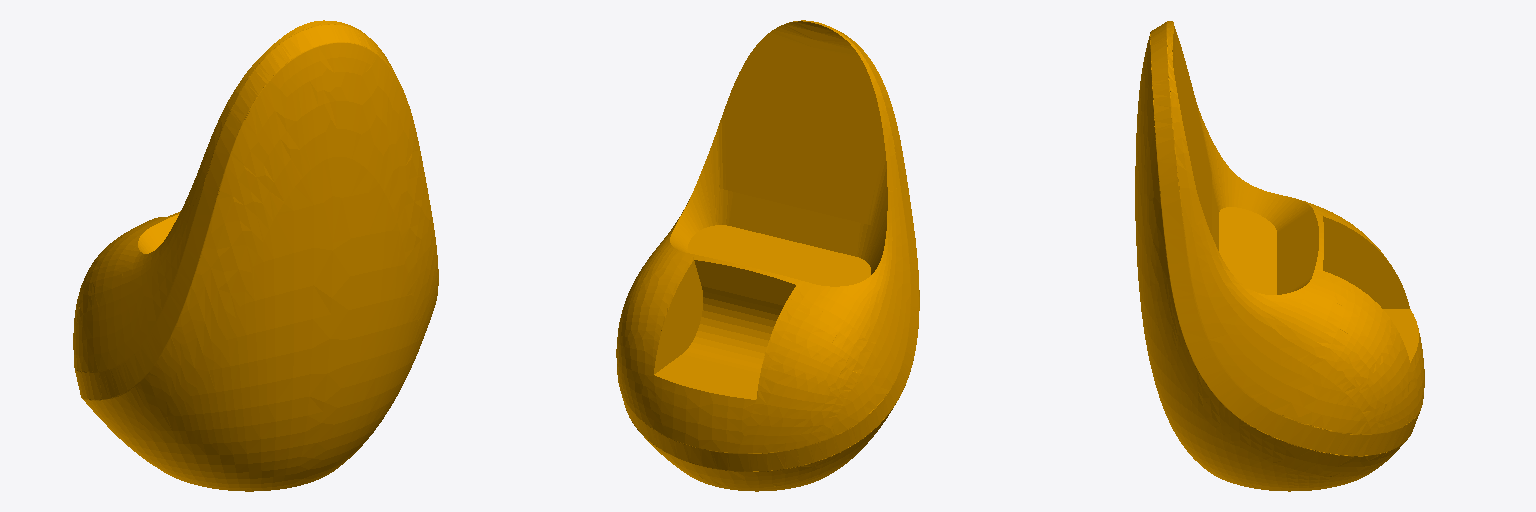
URDF robot description (sdh):
<?xml version="1.0"?>
<robot name="sdh"
	xmlns:sensor="http://playerstage.sourceforge.net/gazebo/xmlschema/#sensor"
	xmlns:controller="http://playerstage.sourceforge.net/gazebo/xmlschema/#controller"
	xmlns:interface="http://playerstage.sourceforge.net/gazebo/xmlschema/#interface">

	<!-- ################################################################################# -->
	<!-- add links-->
	
	<!-- palm -->
	<link name="link_palm">
		<inertial>
			<origin xyz="0 0 0" rpy="0 0 0"/>
			<mass value="1"/>
			<inertia ixx="1"  ixy="0"  ixz="0" iyy="1" iyz="0" izz="1" />
		</inertial>
		<visual>
			<origin xyz="0 0 0" rpy="0 0 0" />
			<geometry>
				<mesh filename="package://cob_defs/common/files/meshes/palm.stl" />
			</geometry>
		</visual>
		<collision>
			<origin xyz="0 0 0" rpy="0 0 0" />
			<geometry>
				<mesh filename="package://cob_defs/common/files/meshes/palm.stl"/>
			</geometry>
		</collision>
	</link>
	
	<!-- finger1 -->
	<link name="link_finger11">
		<inertial>
			<origin xyz="0 0 0" rpy="0 0 0"/>
			<mass value="0.1"/>
			<inertia ixx="1"  ixy="0"  ixz="0" iyy="1" iyz="0" izz="1" />
		</inertial>
		<visual>
			<origin xyz="0 0 0" rpy="0 0 0" />
			<geometry>
				<mesh filename="package://cob_defs/common/files/meshes/knuckle.stl" />
			</geometry>
		</visual>
		<collision>
			<origin xyz="0 0 0" rpy="0 0 0" />
			<geometry>
				<mesh filename="package://cob_defs/common/files/meshes/knuckle.stl"/>
			</geometry>
		</collision>
	</link>
	
	<link name="link_finger12">
		<inertial>
			<origin xyz="0 0 0" rpy="0 0 0"/>
			<mass value="0.1"/>
			<inertia ixx="1"  ixy="0"  ixz="0" iyy="1" iyz="0" izz="1" />
		</inertial>
		<visual>
			<origin xyz="0 0 0" rpy="0 0 0" />
			<geometry>
				<mesh filename="package://cob_defs/common/files/meshes/finger.stl" />
			</geometry>
		</visual>
		<collision>
			<origin xyz="0 0 0" rpy="0 0 0" />
			<geometry>
				<mesh filename="package://cob_defs/common/files/meshes/finger.stl"/>
			</geometry>
		</collision>
	</link>

	<link name="link_finger13">
		<inertial>
			<origin xyz="0 0 0" rpy="0 0 0"/>
			<mass value="0.1"/>
			<inertia ixx="1"  ixy="0"  ixz="0" iyy="1" iyz="0" izz="1" />
		</inertial>
		<visual>
			<origin xyz="0 0 0" rpy="0 0 0" />
			<geometry>
				<mesh filename="package://cob_defs/common/files/meshes/finger_tip.stl" />
			</geometry>
		</visual>
		<collision>
			<origin xyz="0 0 0" rpy="0 0 0" />
			<geometry>
				<mesh filename="package://cob_defs/common/files/meshes/finger_tip.stl"/>
			</geometry>
		</collision>
	</link>

	<!-- finger2 -->
	<link name="link_finger21">
		<inertial>
			<origin xyz="0 0 0" rpy="0 0 0"/>
			<mass value="0.1"/>
			<inertia ixx="1"  ixy="0"  ixz="0" iyy="1" iyz="0" izz="1" />
		</inertial>
		<visual>
			<origin xyz="0 0 0" rpy="0 0 0" />
			<geometry>
				<mesh filename="package://cob_defs/common/files/meshes/knuckle.stl" />
			</geometry>
		</visual>
		<collision>
			<origin xyz="0 0 0" rpy="1.57079633 0 0" />
			<geometry>
				<mesh filename="package://cob_defs/common/files/meshes/knuckle.stl"/>
			</geometry>
		</collision>
	</link>

	<link name="link_finger22">
		<inertial>
			<origin xyz="0 0 0" rpy="0 0 0"/>
			<mass value="0.1"/>
			<inertia ixx="1"  ixy="0"  ixz="0" iyy="1" iyz="0" izz="1" />
		</inertial>
		<visual>
			<origin xyz="0 0 0" rpy="0 0 0" />
			<geometry>
				<mesh filename="package://cob_defs/common/files/meshes/finger.stl" />
			</geometry>
		</visual>
		<collision>
			<origin xyz="0 0 0" rpy="0 0 0" />
			<geometry>
				<mesh filename="package://cob_defs/common/files/meshes/finger.stl"/>
			</geometry>
		</collision>
	</link>

	<link name="link_finger23">
		<inertial>
			<origin xyz="0 0 0" rpy="0 0 0"/>
			<mass value="0.1"/>
			<inertia ixx="1"  ixy="0"  ixz="0" iyy="1" iyz="0" izz="1" />
		</inertial>
		<visual>
			<origin xyz="0 0 0" rpy="0 0 0" />
			<geometry>
				<mesh filename="package://cob_defs/common/files/meshes/finger_tip.stl" />
			</geometry>
		</visual>
		<collision>
			<origin xyz="0 0 0" rpy="0 0 0" />
			<geometry>
				<mesh filename="package://cob_defs/common/files/meshes/finger_tip.stl"/>
			</geometry>
		</collision>
	</link>

	<!-- thumb -->
	<link name="link_thumb1">
		<inertial>
			<origin xyz="0 0 0" rpy="0 0 0"/>
			<mass value="0.1"/>
			<inertia ixx="1"  ixy="0"  ixz="0" iyy="1" iyz="0" izz="1" />
		</inertial>
		<visual>
			<origin xyz="0 0 0" rpy="0 0 0" />
			<geometry>
				<mesh filename="package://cob_defs/common/files/meshes/knuckle.stl" />
			</geometry>
		</visual>
		<collision>
			<origin xyz="0 0 0" rpy="0 0 0" />
			<geometry>
				<mesh filename="package://cob_defs/common/files/meshes/knuckle.stl"/>
			</geometry>
		</collision>
	</link>

	<link name="link_thumb2">
		<inertial>
			<origin xyz="0 0 0" rpy="0 0 0"/>
			<mass value="0.1"/>	
			<inertia ixx="1"  ixy="0"  ixz="0" iyy="1" iyz="0" izz="1" />
		</inertial>
		<visual>
			<origin xyz="0 0 0" rpy="0 0 0" />
			<geometry>
				<mesh filename="package://cob_defs/common/files/meshes/finger.stl" />
			</geometry>
		</visual>
		<collision>
			<origin xyz="0 0 0" rpy="0 0 0" />
			<geometry>
				<mesh filename="package://cob_defs/common/files/meshes/finger.stl"/>
			</geometry>
		</collision>
	</link>
	
	<link name="link_thumb3">
		<inertial>
			<origin xyz="0 0 0" rpy="0 0 0"/>
			<mass value="0.1"/>
			<inertia ixx="1"  ixy="0"  ixz="0" iyy="1" iyz="0" izz="1" />
		</inertial>
		<visual>
			<origin xyz="0 0 0" rpy="0 0 0" />
			<geometry>
				<mesh filename="package://cob_defs/common/files/meshes/finger_tip.stl" />
			</geometry>
		</visual>
		<collision>
			<origin xyz="0 0 0" rpy="0 0 0" />
			<geometry>
				<mesh filename="package://cob_defs/common/files/meshes/finger_tip.stl"/>
			</geometry>
		</collision>
	</link>
	
	<!-- define colors for links -->
	<gazebo reference="link_palm">
		<material>Gazebo/Grey</material>
		<turnGravityOff>false</turnGravityOff>
	</gazebo>
	
	<gazebo reference="link_finger11">
		<material>Gazebo/Black</material>
		<turnGravityOff>false</turnGravityOff>
	</gazebo>
	
	<gazebo reference="link_finger12">
		<material>Gazebo/Red</material>
		<turnGravityOff>false</turnGravityOff>
	</gazebo>
	
	<gazebo reference="link_finger13">
		<material>Gazebo/Blue</material>
		<turnGravityOff>false</turnGravityOff>
	</gazebo>

	<gazebo reference="link_finger21">
		<material>Gazebo/Black</material>
		<turnGravityOff>false</turnGravityOff>
	</gazebo>

	<gazebo reference="link_finger22">
		<material>Gazebo/Red</material>
		<turnGravityOff>false</turnGravityOff>
	</gazebo>

	<gazebo reference="link_finger23">
		<material>Gazebo/Blue</material>
		<turnGravityOff>false</turnGravityOff>
	</gazebo>

	<gazebo reference="link_thumb1">
		<material>Gazebo/Black</material>
		<turnGravityOff>false</turnGravityOff>
	</gazebo>
	
	<gazebo reference="link_thumb2">
		<material>Gazebo/Red</material>
		<turnGravityOff>false</turnGravityOff>
	</gazebo>

	<gazebo reference="link_thumb3">
		<material>Gazebo/Blue</material>
		<turnGravityOff>false</turnGravityOff>
	</gazebo>

	<!-- ################################################################################# -->
	<!-- add joints -->

	<!-- palm -->

	<!-- finger1 -->
	<joint name="joint_palm_finger11" type="revolute">
		<origin xyz="0.01905 0.033 0.0745" rpy="0 0 3.159265" />
		<parent link="link_palm"/>
		<child link="link_finger11"/>
		<axis xyz="0 0 1" />
	    <calibration reference_position="0.0"/>
		<limit effort="100" lower="-2" upper="2" velocity="5"/> <!-- rads. effort is N-m applied force. vel is rad/s. -->
	</joint>
 
	<joint name="joint_finger11_finger12" type="revolute">
		<origin xyz="0 0 0.0165" rpy="0 0 0" />
		<parent link="link_finger11"/>
		<child link="link_finger12"/>
		<axis xyz="0 1 0" />
	    <calibration reference_position="0.0"/>
		<limit effort="100" lower="-2" upper="2" velocity="5"/> <!-- rads. effort is N-m applied force. vel is rad/s. -->
	</joint>
 
	<joint name="joint_finger12_finger13" type="revolute">
		<origin xyz="0 0 0.0865" rpy="0 0 0" />
		<parent link="link_finger12"/>
		<child link="link_finger13"/>
		<axis xyz="0 1 0" />
	    <calibration reference_position="0.0"/>
		<limit effort="100" lower="-2" upper="2" velocity="5"/> <!-- rads. effort is N-m applied force. vel is rad/s. -->
	</joint>
 
	<!-- finger2 -->
	<joint name="joint_palm_finger21" type="revolute">
		<origin xyz="0.01905 -0.033 0.0745" rpy="0 0 3.14159265" />
		<parent link="link_palm"/>
		<child link="link_finger21"/>
		<axis xyz="0 0 1" />
	    <calibration reference_position="0.0"/>
		<limit effort="100" lower="-2" upper="2" velocity="5"/> <!-- rads. effort is N-m applied force. vel is rad/s. -->
	</joint>
 
	<joint name="joint_finger21_finger22" type="revolute">
		<origin xyz="0 0 0.0165" rpy="0 0 0" />
		<parent link="link_finger21"/>
		<child link="link_finger22"/>
		<axis xyz="0 1 0" />
	    <calibration reference_position="0.0"/>
		<limit effort="100" lower="-2" upper="2" velocity="5"/> <!-- rads. effort is N-m applied force. vel is rad/s. -->
	</joint>
 
	<joint name="joint_finger22_finger23" type="revolute">
		<origin xyz="0 0 0.0865" rpy="0 0 0" />
		<parent link="link_finger22"/>
		<child link="link_finger23"/>
		<axis xyz="0 1 0" />
	    <calibration reference_position="0.0"/>
		<limit effort="100" lower="-2" upper="2" velocity="5"/> <!-- rads. effort is N-m applied force. vel is rad/s. -->
	</joint>
 
	<!-- thumb -->
	<joint name="joint_palm_thumb1" type="revolute">
		<origin xyz="-0.03811 0 0.0745 " rpy="0 0 0" />
		<parent link="link_palm"/>
		<child link="link_thumb1"/>
		<axis xyz="0 0 1" />
	    <calibration reference_position="0.0"/>
		<limit effort="100" lower="-2" upper="2" velocity="5"/> <!-- rads. effort is N-m applied force. vel is rad/s. -->
	</joint>
 
	<joint name="joint_thumb1_thumb2" type="revolute">
		<origin xyz="0 0 0.0165" rpy="0 0 0" />
		<parent link="link_thumb1"/>
		<child link="link_thumb2"/>
		<axis xyz="0 1 0" />
	    <calibration reference_position="0.0"/>
		<limit effort="100" lower="-2" upper="2" velocity="5"/> <!-- rads. effort is N-m applied force. vel is rad/s. -->
	</joint>
 
	<joint name="joint_thumb2_thumb3" type="revolute">
		<origin xyz="0 0 0.0865" rpy="0 0 0" />
		<parent link="link_thumb2"/>
		<child link="link_thumb3"/>
		<axis xyz="0 1 0" />
	    <calibration reference_position="0.0"/>
		<limit effort="100" lower="-2" upper="2" velocity="5"/> <!-- rads. effort is N-m applied force. vel is rad/s. -->
	</joint>

	<!-- ################################################################################# -->
	<!-- add transmissions -->
	
	<!-- finger1 -->
	<transmission name="trans_palm_finger11" type="SimpleTransmission">
		<actuator name="motor_palm_finger11"/>
		<joint name="joint_palm_finger11"/>
		<mechanicalReduction>1</mechanicalReduction>
	</transmission>
	
	<transmission name="trans_finger11_finger12" type="SimpleTransmission">
		<actuator name="motor_finger11_finger12"/>
		<joint name="joint_finger11_finger12"/>
		<mechanicalReduction>1</mechanicalReduction>
	</transmission>
	
	<transmission name="trans_finger12_finger13" type="SimpleTransmission">
		<actuator name="motor_finger12_finger13"/>
		<joint name="joint_finger12_finger13"/>
		<mechanicalReduction>1</mechanicalReduction>
	</transmission>
	
	<!-- finger2 -->
	<transmission name="trans_palm_finger21" type="SimpleTransmission">
		<actuator name="motor_palm_finger21"/>
		<joint name="joint_palm_finger21"/>
		<mechanicalReduction>1</mechanicalReduction>
	</transmission>
	
	<transmission name="trans_finger21_finger22" type="SimpleTransmission">
		<actuator name="motor_finger21_finger22"/>
		<joint name="joint_finger21_finger22"/>
		<mechanicalReduction>1</mechanicalReduction>
	</transmission>
	
	<transmission name="trans_finger22_finger23" type="SimpleTransmission">
		<actuator name="motor_finger22_finger23"/>
		<joint name="joint_finger22_finger23"/>
		<mechanicalReduction>1</mechanicalReduction>
	</transmission>
	
	<!-- thumb -->
	<transmission name="trans_palm_thumb1" type="SimpleTransmission">
		<actuator name="motor_palm_thumb1"/>
		<joint name="joint_palm_thumb1"/>
		<mechanicalReduction>1</mechanicalReduction>
	</transmission>
	
	<transmission name="trans_thumb1_thumb2" type="SimpleTransmission">
		<actuator name="motor_thumb1_thumb2"/>
		<joint name="joint_thumb1_thumb2"/>
		<mechanicalReduction>1</mechanicalReduction>
	</transmission>
	
	<transmission name="trans_thumb2_thumb3" type="SimpleTransmission">
		<actuator name="motor_thumb2_thumb3"/>
		<joint name="joint_thumb2_thumb3"/>
		<mechanicalReduction>1</mechanicalReduction>
	</transmission>

</robot>

--- Facts derived from the render (not from the file) ---
The picture shows the robot from 3 angles, left to right: view 1: azimuth 30°, elevation 25°; view 2: azimuth 150°, elevation 25°; view 3: azimuth 270°, elevation 25°; orthographic projection.
Model sdh with 10 links and 9 joints (9 revolute), rooted at link_palm, posed all joints at 0.
Visible links, largest first — view 1: link_palm; view 2: link_palm; view 3: link_palm.
Link boxes in pixels (x1=…): link_palm: x1=73, y1=20, x2=438, y2=491; link_palm: x1=616, y1=20, x2=919, y2=491; link_palm: x1=1135, y1=21, x2=1424, y2=491.
Bounding box of the posed robot: 0.1248 × 0.1124 × 0.1827 m (x, y, z).
1 mesh visuals loaded from 4 distinct referenced files (1 binary STL); not drawn: 9 (reference not matched to a file when rendering).